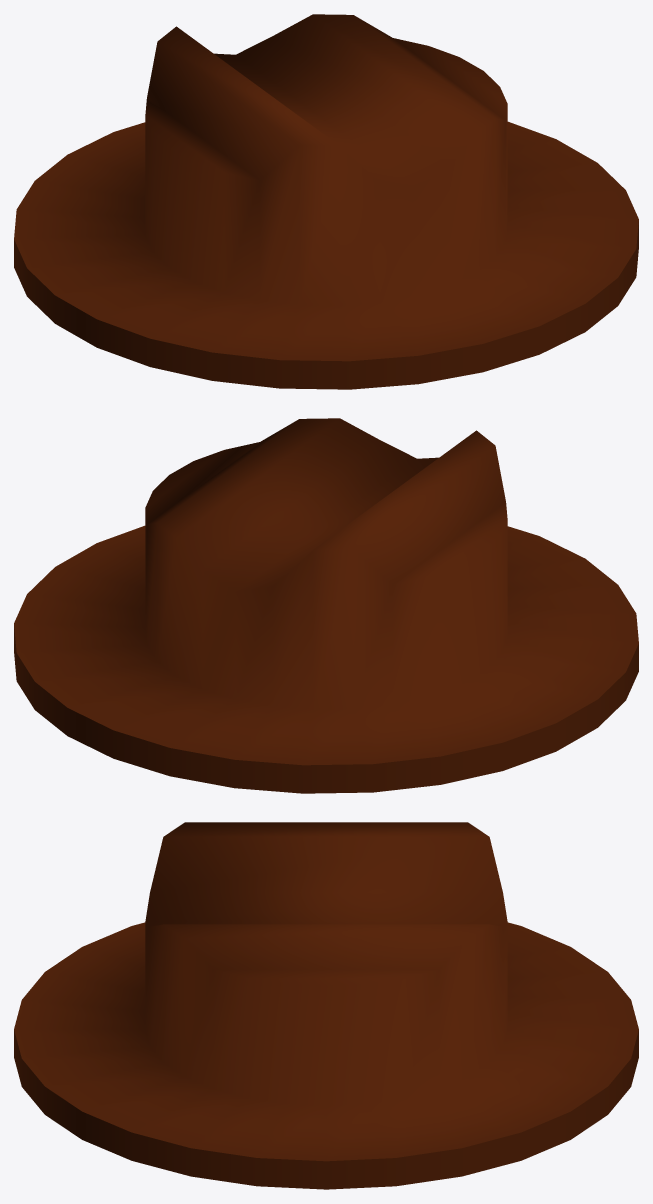
Rendered from hat2.FBX.
3 renders of one model, top to bottom at view 1: azimuth 30°, elevation 25°; view 2: azimuth 150°, elevation 25°; view 3: azimuth 270°, elevation 25°, orthographic.
Visible parts, largest first — view 1: Cylinder001; view 2: Cylinder001; view 3: Cylinder001.
Part boxes in pixels (x1,y1,x2,y2): Cylinder001: (14, 14, 638, 389); Cylinder001: (14, 418, 638, 793); Cylinder001: (14, 822, 638, 1189).
Size of the model in its own units: 39.37 by 13.03 by 39.37.
